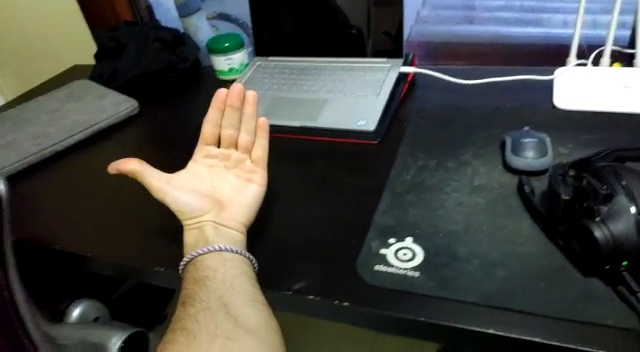Palm: (105, 81, 270, 245)
